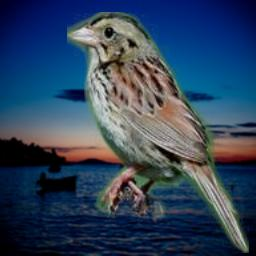Sparrow: (67, 12, 249, 253)
